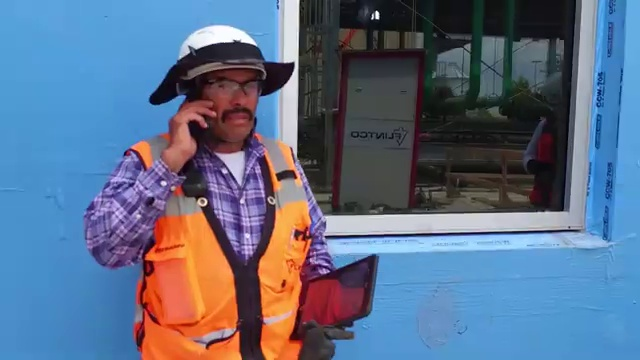helmet: (150, 12, 287, 101)
jacket: (115, 137, 317, 360)
